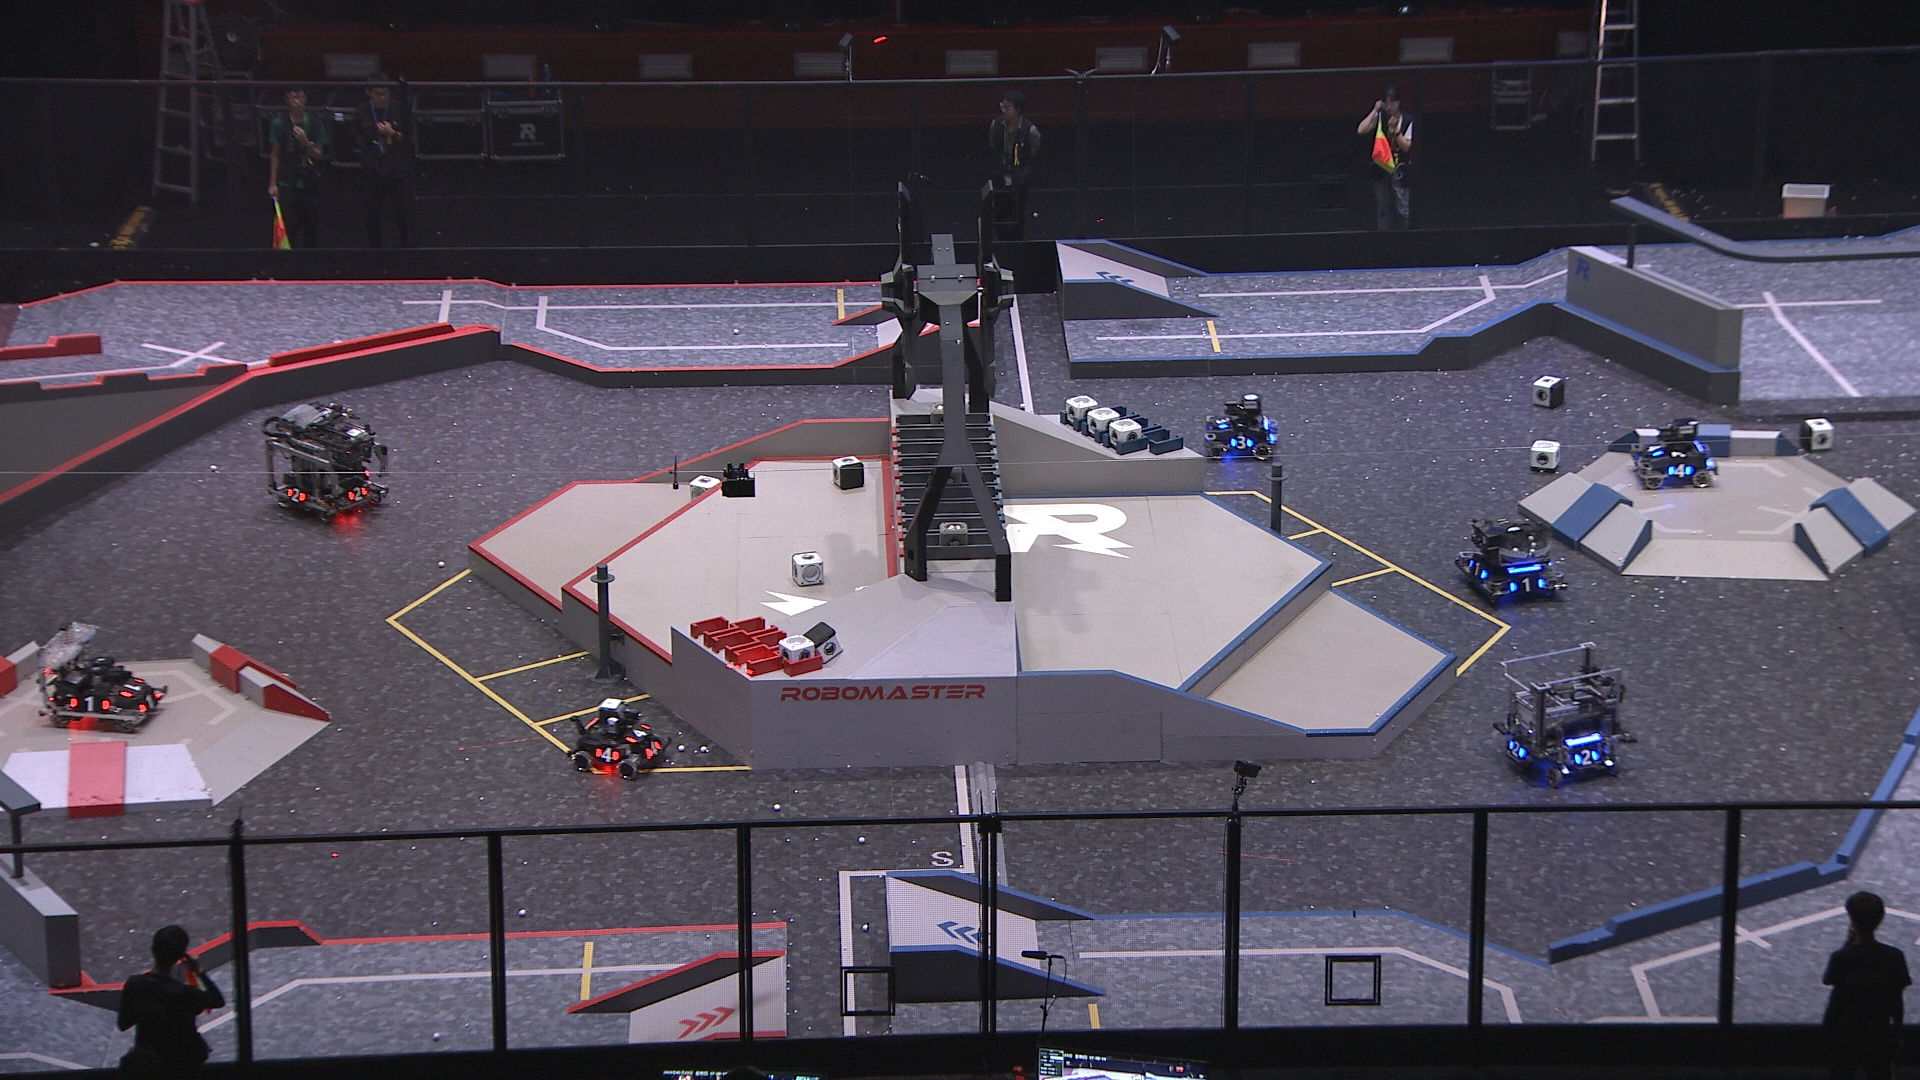armor: (71, 694, 111, 713), (1509, 576, 1545, 593), (120, 676, 146, 700), (624, 723, 651, 745), (135, 694, 164, 713), (593, 745, 622, 764), (1665, 462, 1695, 480), (1466, 559, 1489, 583), (1505, 738, 1528, 761), (1575, 746, 1600, 766), (1229, 434, 1257, 451), (644, 738, 665, 761), (287, 487, 309, 505), (1212, 415, 1234, 433), (347, 485, 368, 502), (1644, 443, 1665, 458)
car: (1490, 641, 1629, 785), (262, 400, 392, 527), (34, 621, 169, 733), (1452, 517, 1571, 608), (568, 699, 675, 783), (1633, 415, 1720, 491), (1205, 392, 1282, 462)
